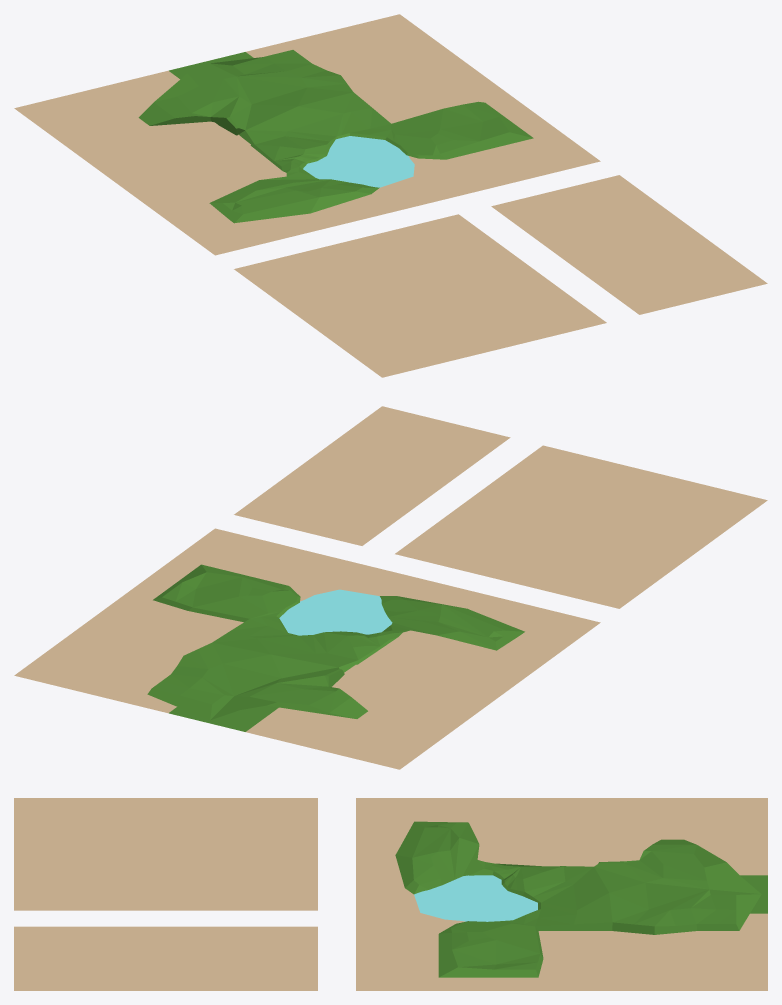
Rendered from land-back.glb.
3 views of the same model, one above another, from view 1: azimuth 30°, elevation 25°; view 2: azimuth 150°, elevation 25°; view 3: azimuth 270°, elevation 25° (orthographic). The views are drawn at different scales.
Visible parts, largest first — view 1: land-back, landing-grass; view 2: land-back, landing-grass; view 3: land-back, landing-grass.
Part boxes in pixels (left/top/right/bottom): land-back: left=14, top=14, right=767, bottom=377; landing-grass: left=138, top=50, right=533, bottom=223; land-back: left=14, top=406, right=767, bottom=769; landing-grass: left=147, top=564, right=524, bottom=720; land-back: left=14, top=798, right=767, bottom=990; landing-grass: left=395, top=821, right=761, bottom=977.
Bounding box in the file's own units: 360 × 13.08 × 595.
Materials: 1 (1 with a texture image).
